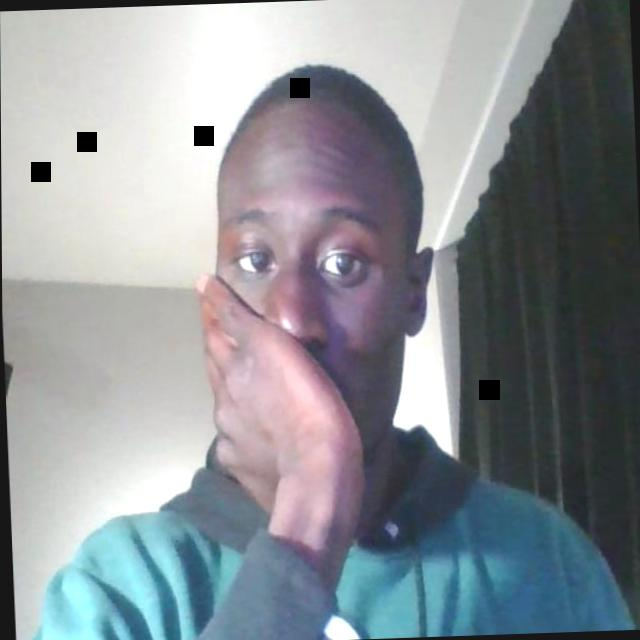NO-Mask: (212, 188, 422, 468)
